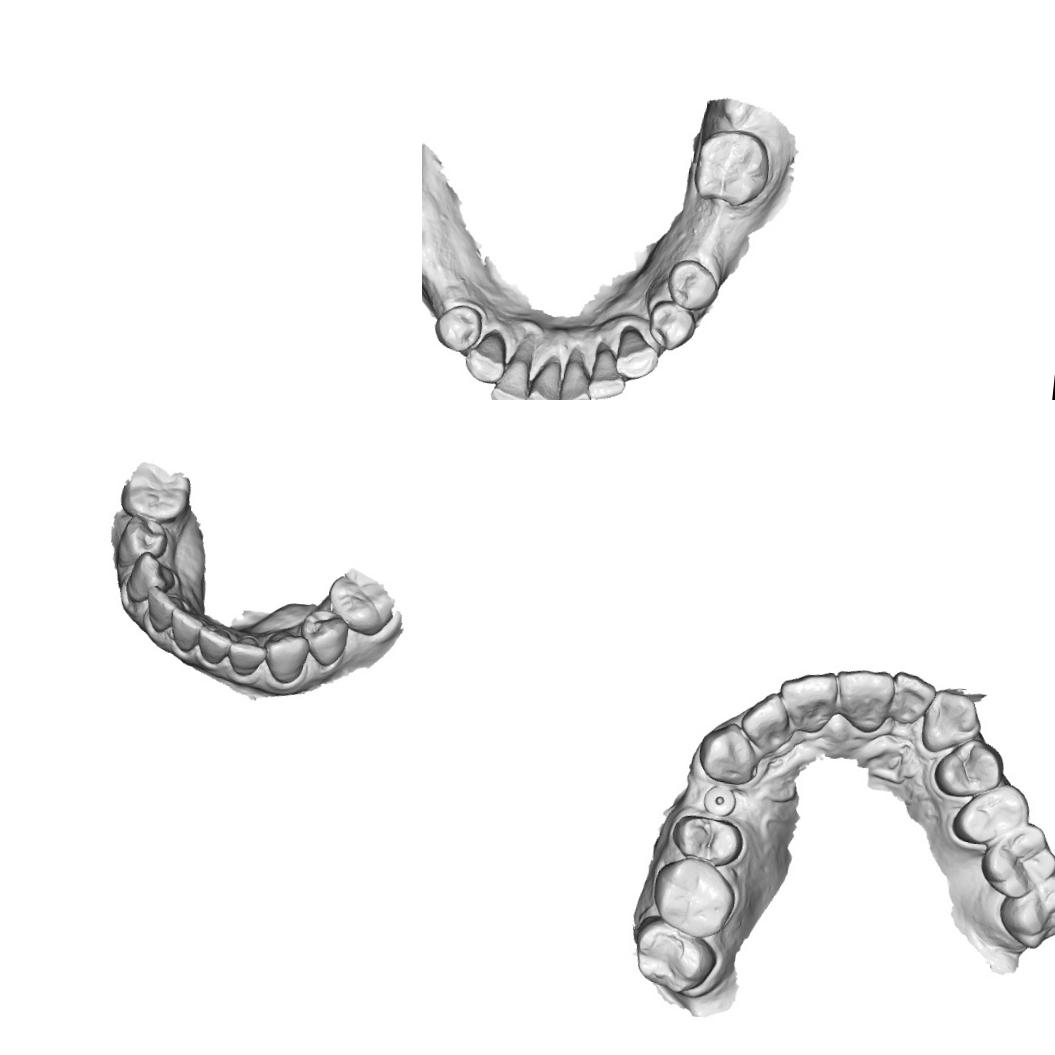canine: (917, 686, 986, 760), (693, 717, 762, 788), (122, 549, 178, 606), (612, 322, 663, 382), (260, 628, 312, 686), (462, 326, 509, 386)
implant: (700, 783, 738, 820)
incisor: (773, 666, 844, 738), (831, 664, 898, 737), (736, 688, 793, 756), (888, 668, 940, 730), (488, 339, 535, 400), (586, 340, 630, 400), (555, 347, 596, 400), (142, 584, 184, 634), (226, 632, 268, 678), (167, 606, 207, 654), (525, 352, 563, 400), (195, 622, 233, 666)
molar: (647, 852, 740, 942), (628, 912, 720, 1000), (690, 125, 774, 212), (975, 815, 1055, 904), (992, 858, 1055, 956), (324, 566, 396, 638), (118, 460, 194, 527)
premolar: (948, 774, 1036, 854), (930, 732, 1010, 803), (666, 810, 746, 868), (663, 256, 721, 314), (297, 606, 351, 668), (114, 512, 172, 568), (646, 298, 699, 354), (432, 301, 484, 355)
